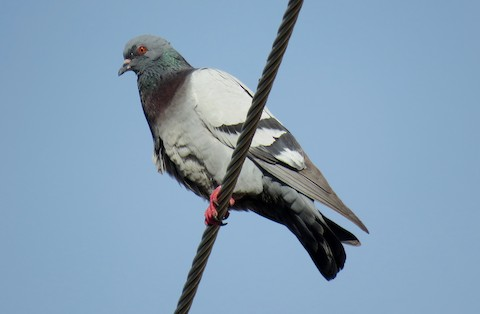pigeon: (115, 33, 372, 281)
